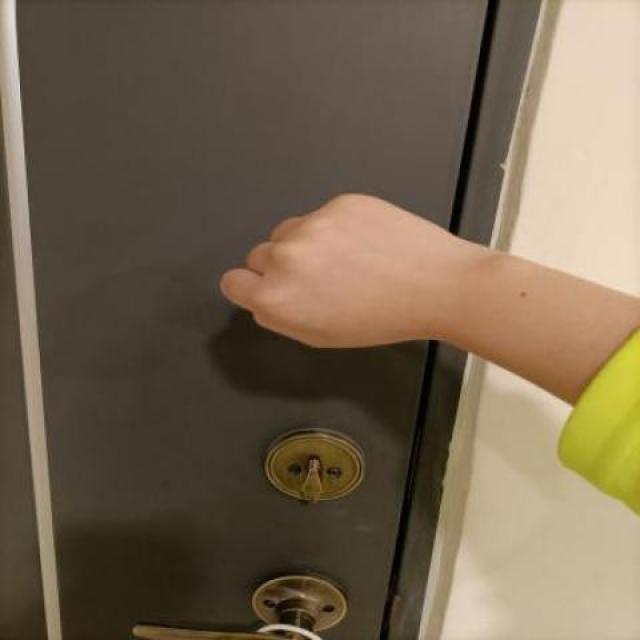fist: (216, 190, 493, 358)
